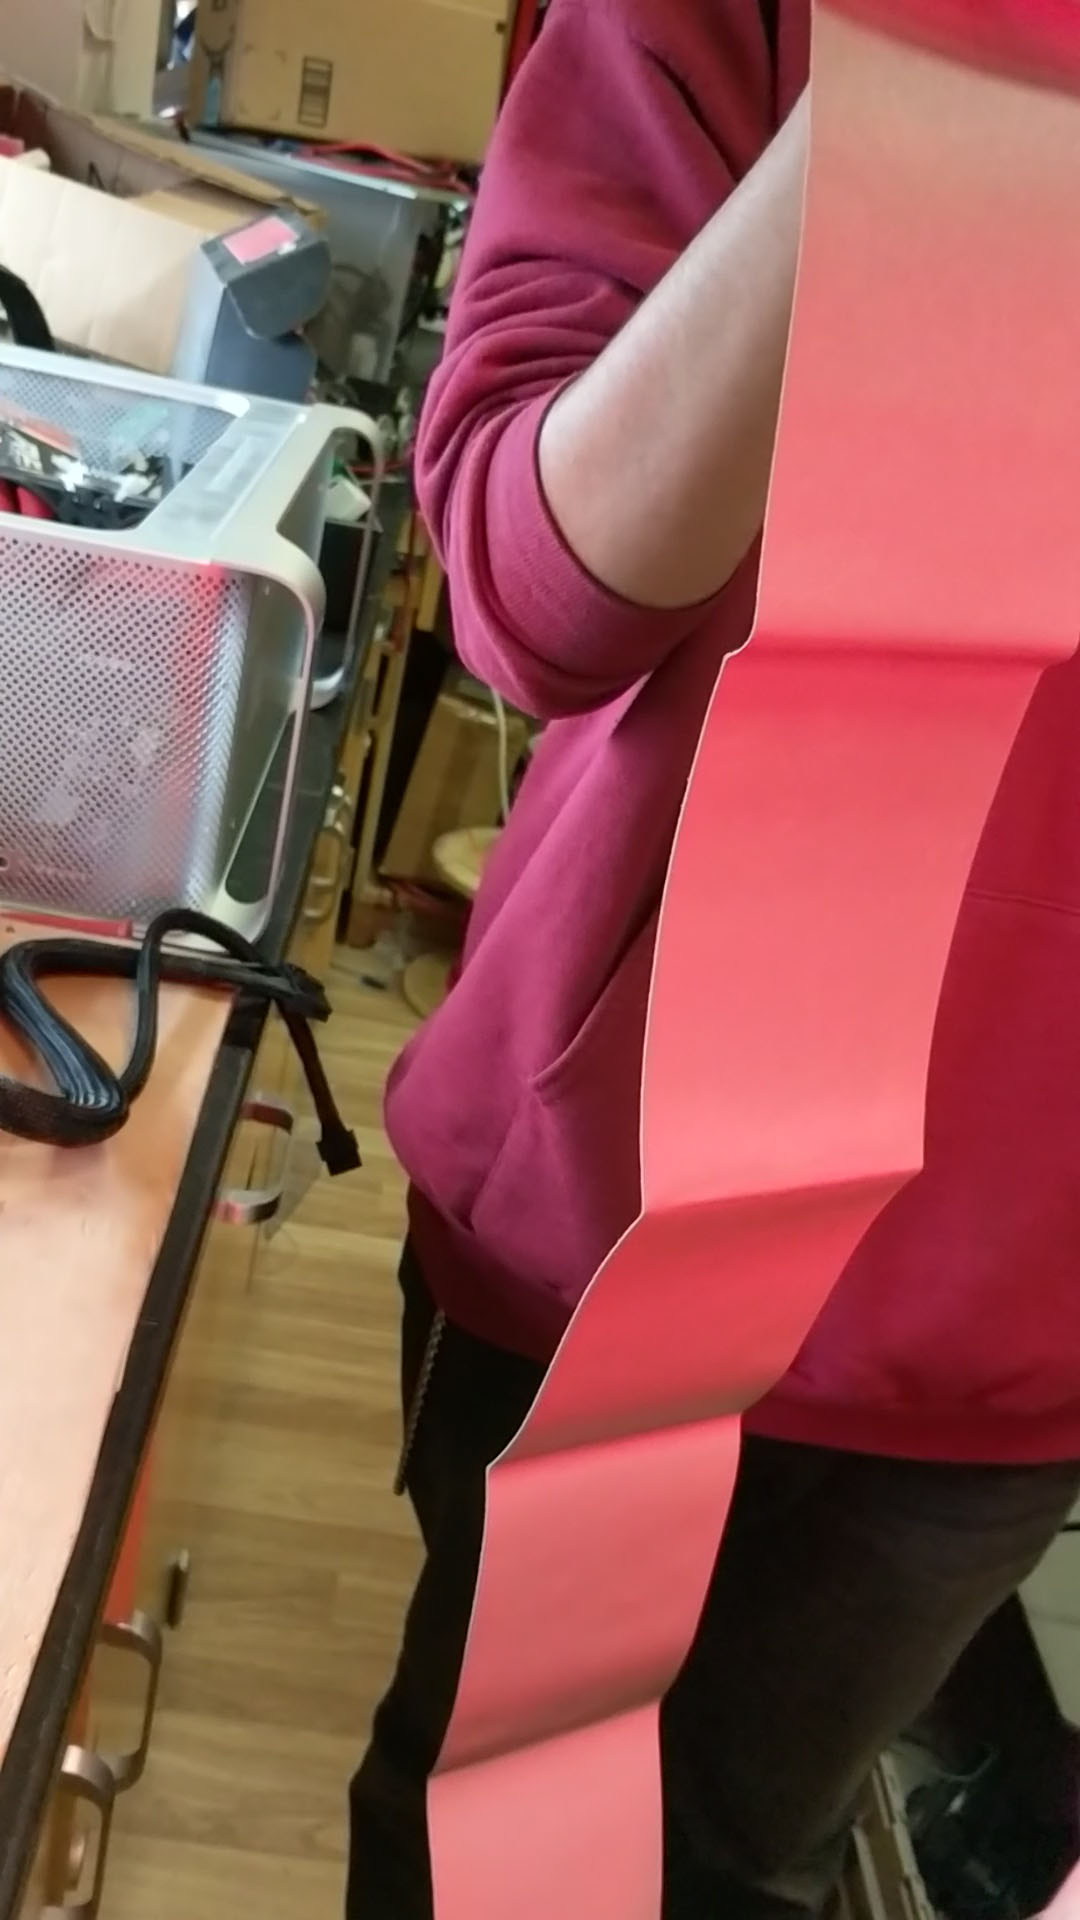gear: (429, 0, 1080, 1920)
